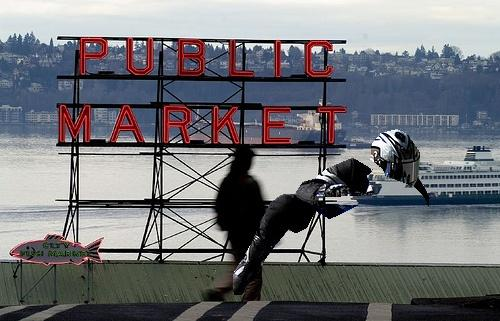tampered: (234, 130, 429, 295)
